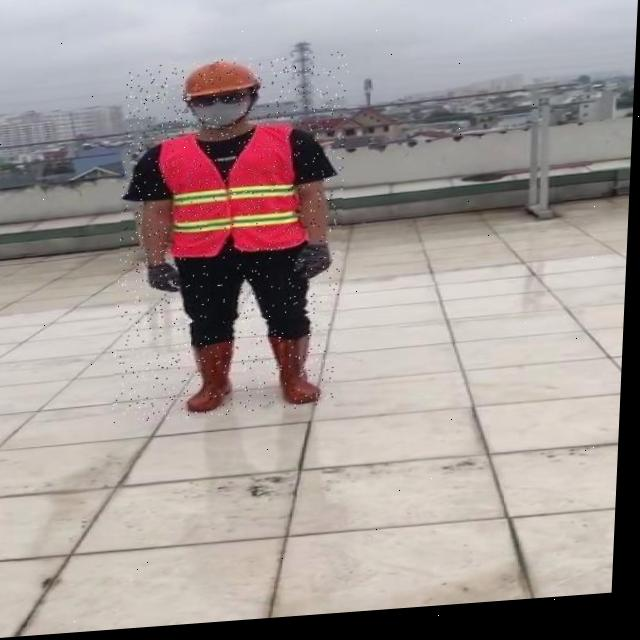Gloves: (296, 246, 335, 284), (149, 262, 185, 296)
Helmet: (181, 60, 262, 135)
Safety-Boot: (269, 334, 327, 410), (189, 341, 238, 416)
Safety-Vest: (155, 125, 315, 265)
